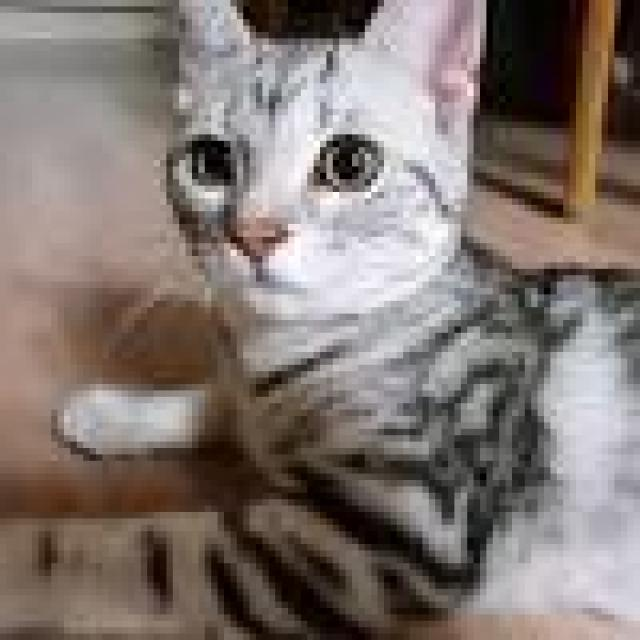cat-face: (96, 0, 544, 401)
